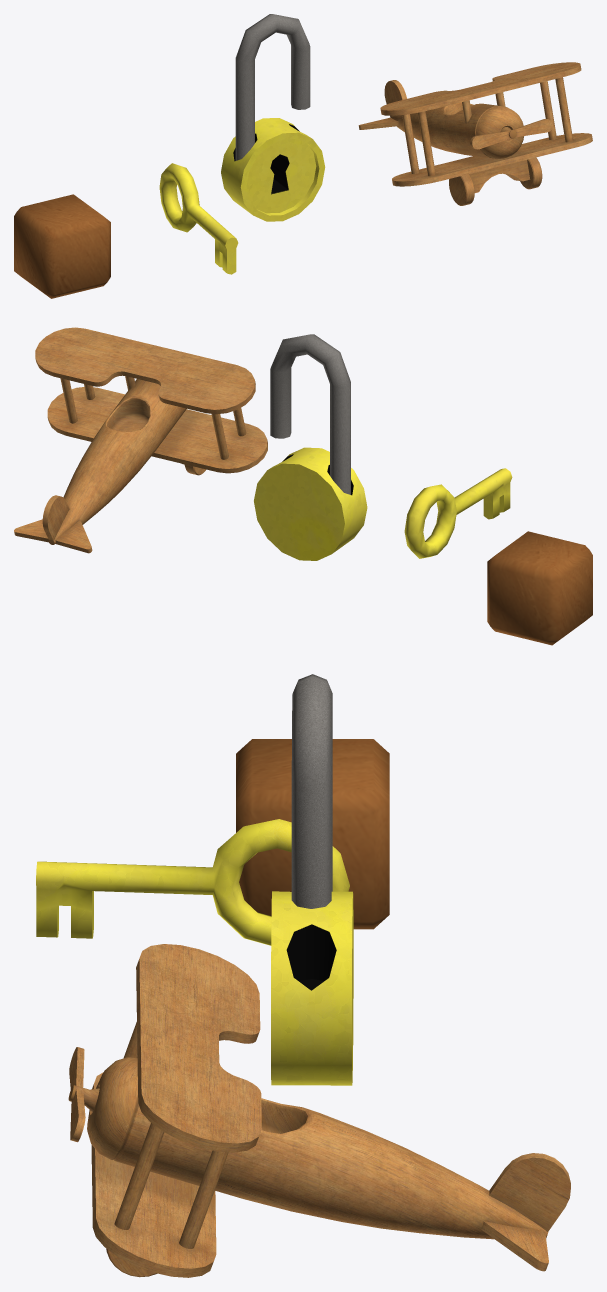
The model's file is Room1Object.fbx.
3 views of the same model, one above another, from view 1: azimuth 30°, elevation 25°; view 2: azimuth 150°, elevation 25°; view 3: azimuth 270°, elevation 25° (orthographic). The views are drawn at different scales.
Parts seen in each view (by area): view 1: plane, Cube.005, lock, lock_t, key; view 2: plane, Cube.005, lock, lock_t, key; view 3: plane, Cube.005, lock, key, lock_t.
Boxes of the visible parts, x1,y1,x2,y2 form: plane: [358, 62, 592, 205]; Cube.005: [14, 194, 110, 298]; lock: [221, 118, 325, 221]; lock_t: [235, 14, 310, 160]; key: [159, 163, 238, 274]; plane: [14, 327, 267, 553]; Cube.005: [487, 531, 592, 645]; lock: [254, 447, 367, 560]; lock_t: [270, 334, 350, 494]; key: [404, 468, 512, 558]; plane: [68, 944, 570, 1277]; Cube.005: [236, 739, 389, 929]; lock: [271, 891, 353, 1085]; key: [36, 819, 349, 945]; lock_t: [291, 674, 332, 908].
Bounding box in the file's own units: 1.18 × 0.4684 × 0.5253.
